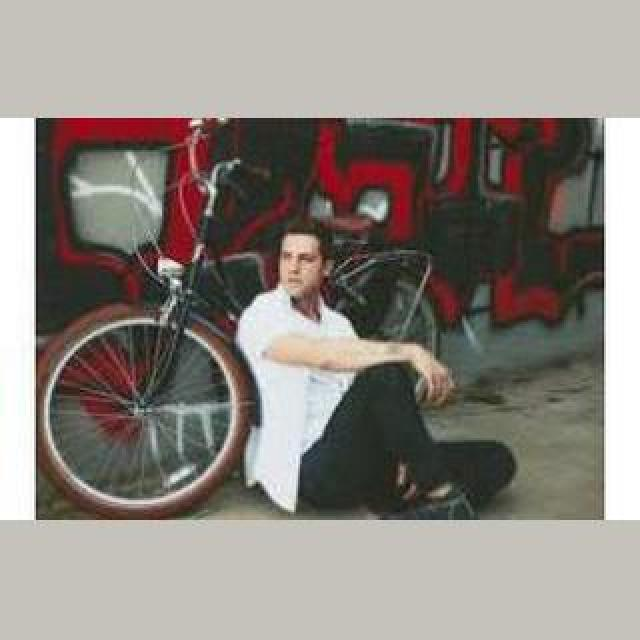MC-Bike: (234, 228, 502, 510)
Person: (38, 118, 444, 518)
